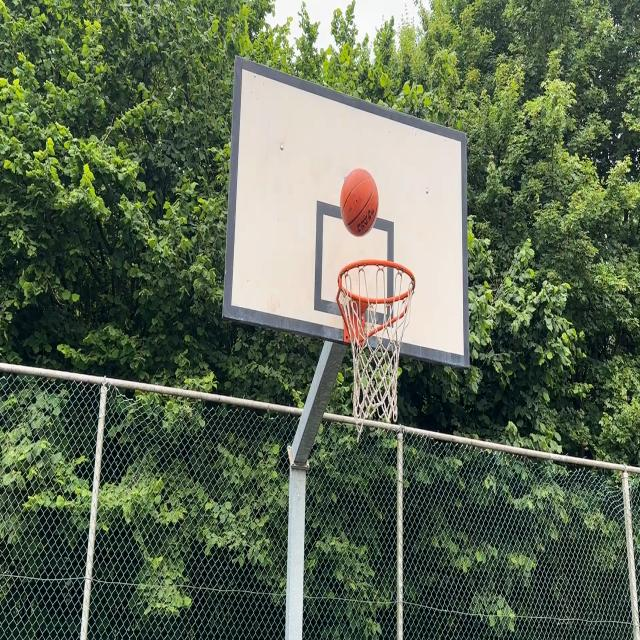Basketball: (340, 171, 379, 240)
